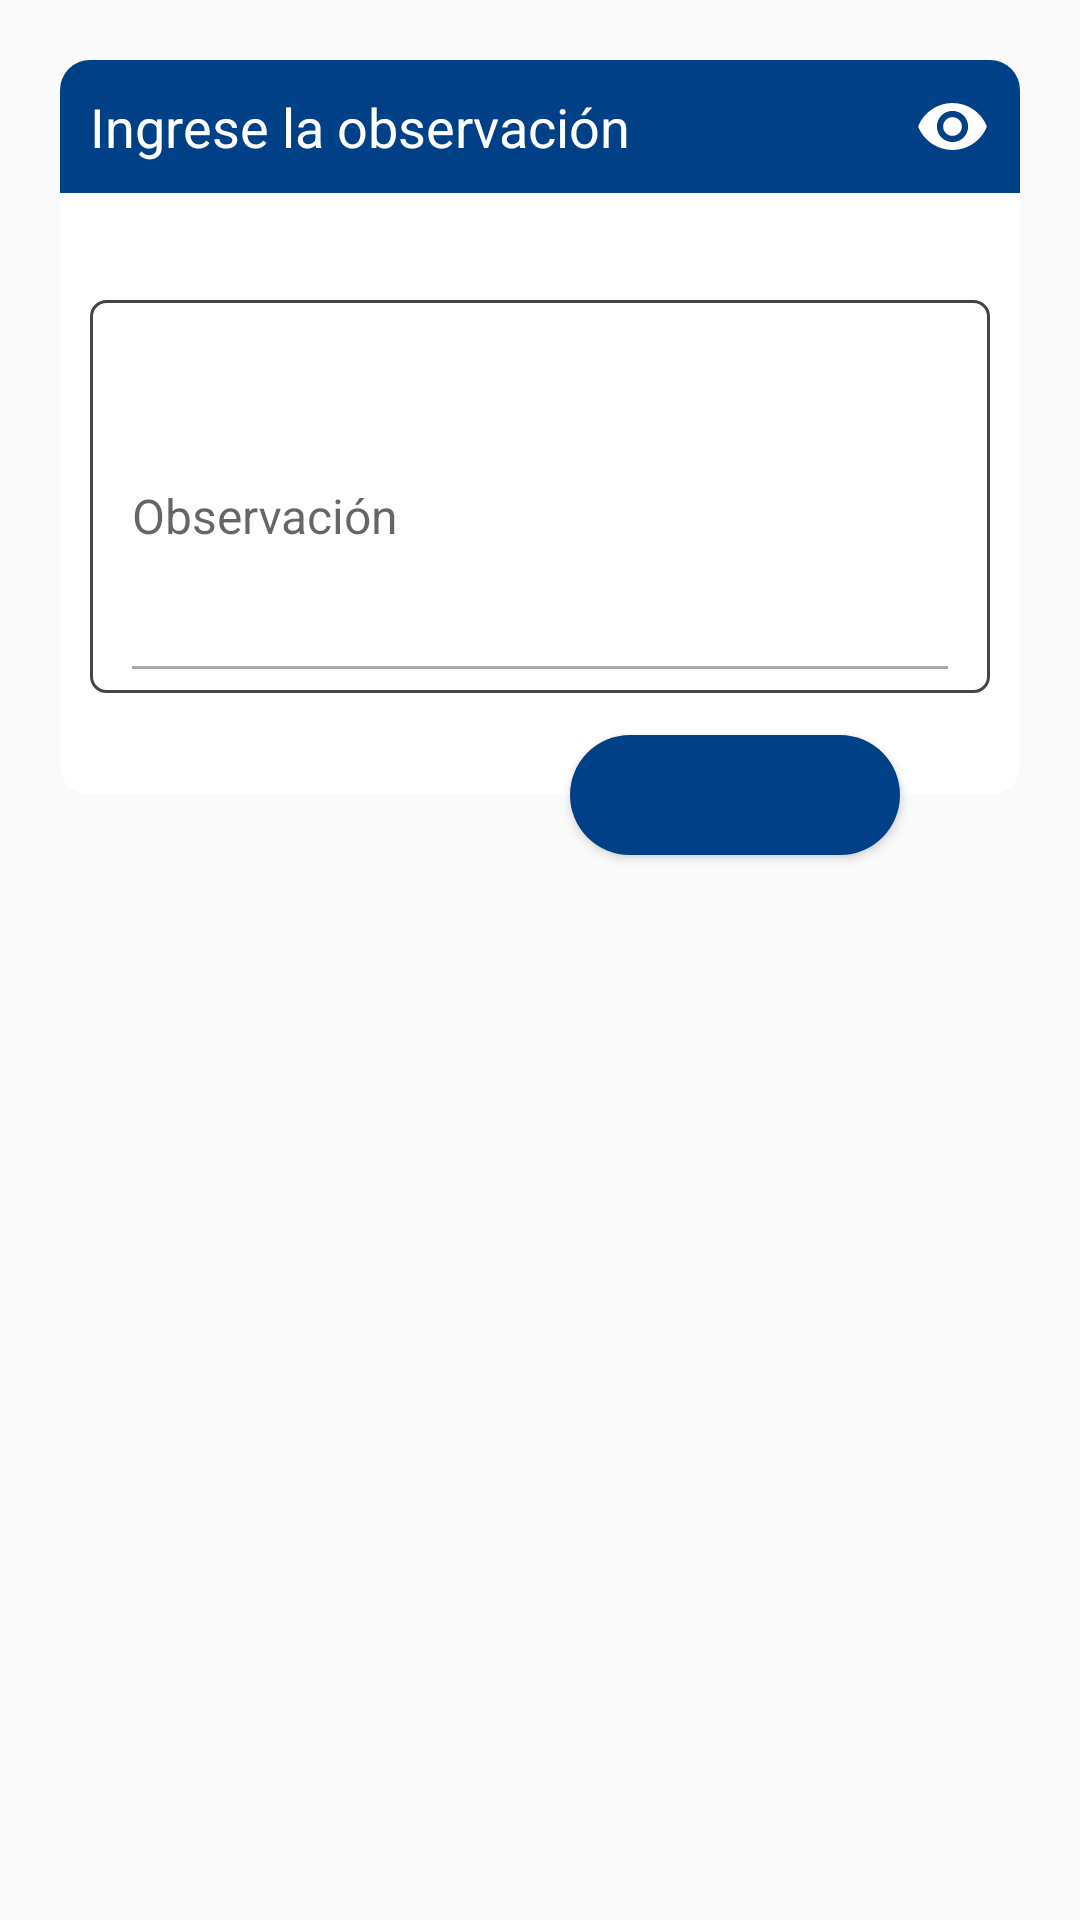

Screen size 1080 × 1920. Icon name, then its center in pixels as [x,y]:
eye: [952,126]
